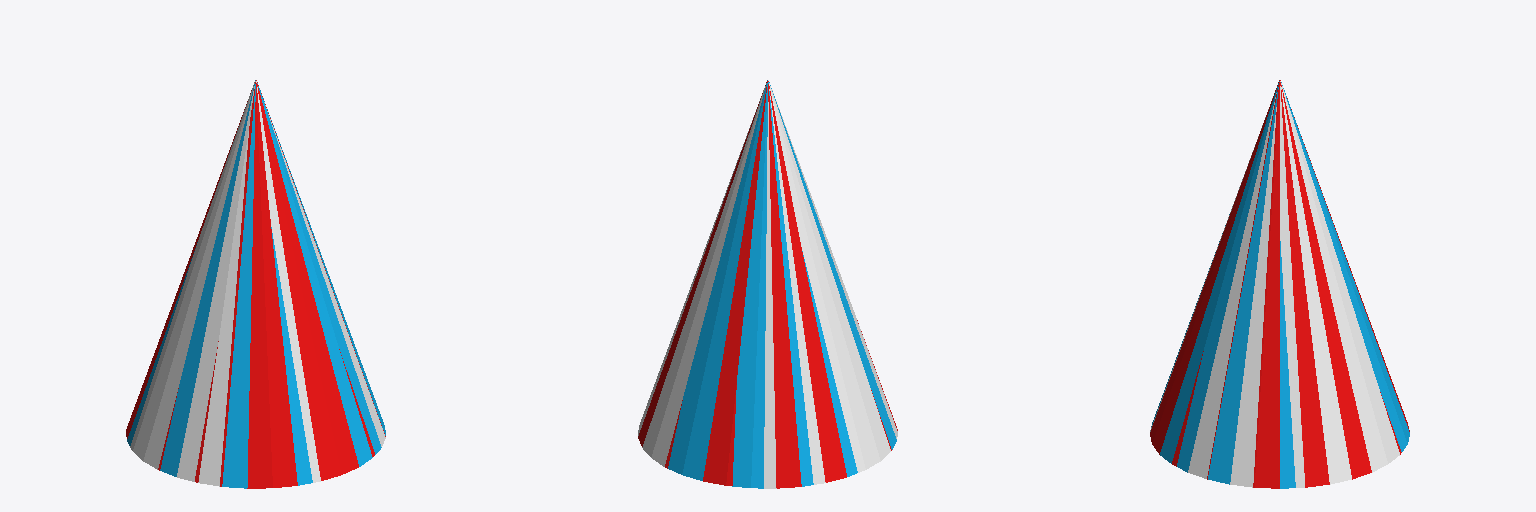
The picture shows the model from 3 angles: view 1: azimuth 30°, elevation 25°; view 2: azimuth 150°, elevation 25°; view 3: azimuth 270°, elevation 25°; orthographic projection.
Parts seen in each view (by area): view 1: Cone; view 2: Cone; view 3: Cone.
Boxes of the visible parts, <box> form: Cone: <box>126,80,385,488</box>; Cone: <box>638,80,897,488</box>; Cone: <box>1150,80,1409,488</box>.
Size of the model in its own units: 2 by 3.01 by 2.
Materials: 1 (1 with a texture image).